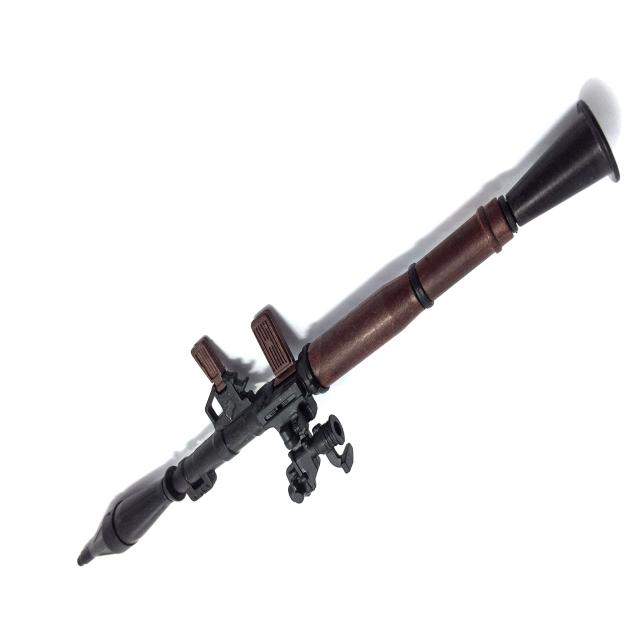Gun: (64, 74, 626, 618)
